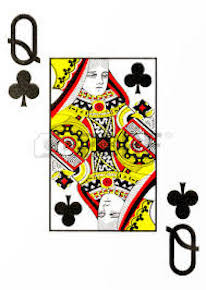QueenOfClubs: (1, 3, 206, 287)
